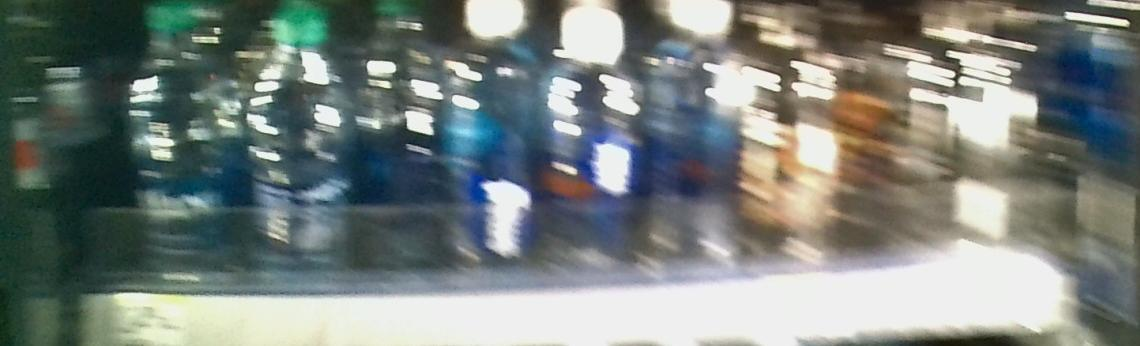bottle: (121, 7, 235, 290), (244, 5, 354, 298), (445, 3, 540, 289), (545, 7, 644, 271), (360, 7, 439, 284)
